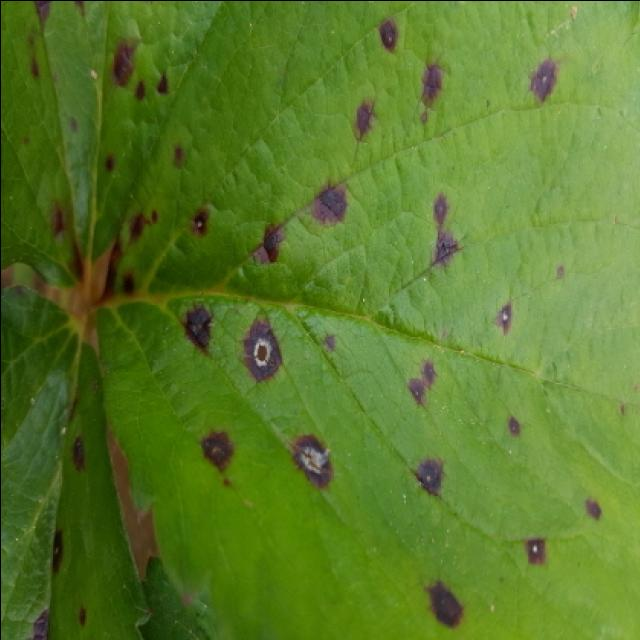Leaf Spot: (92, 2, 640, 640), (2, 2, 220, 284), (2, 283, 151, 640)
